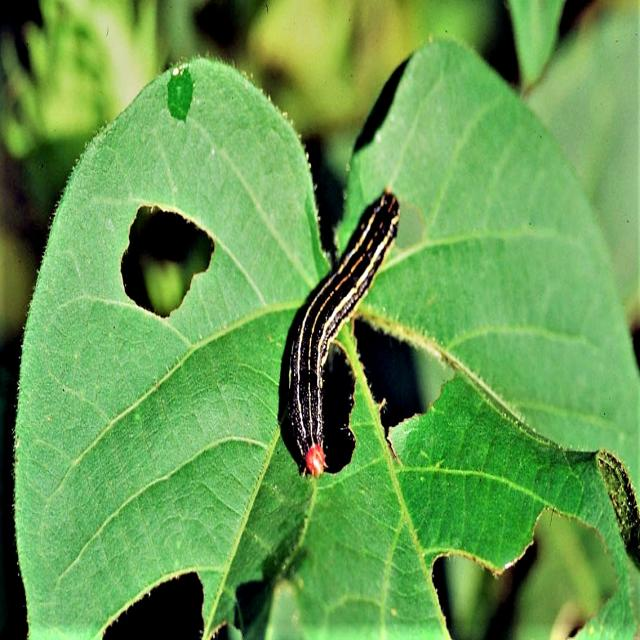armyworm: (277, 186, 401, 478)
